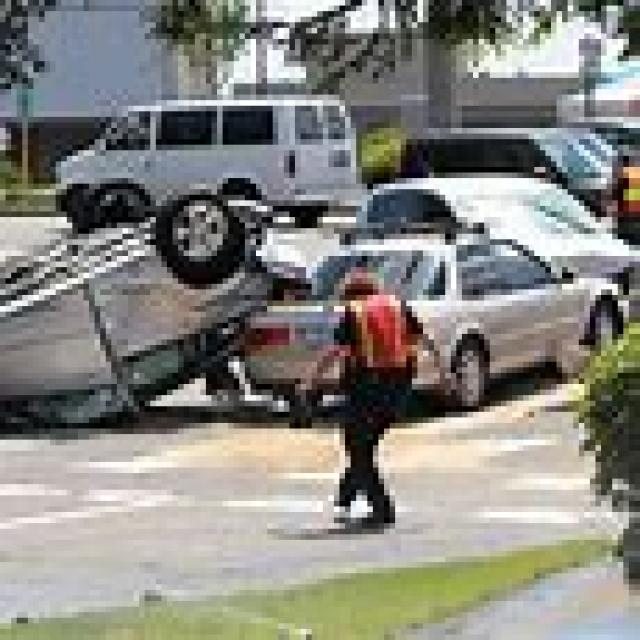Accident: (97, 144, 513, 436)
